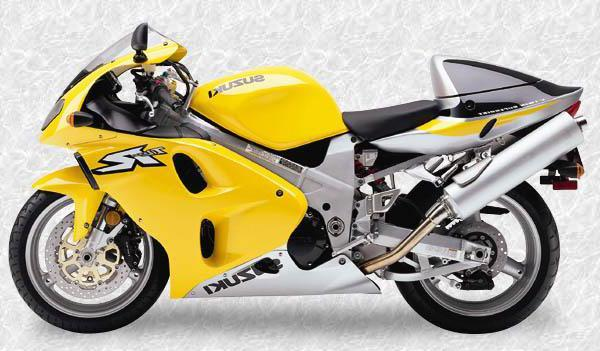motorcycle: (2, 19, 600, 345)
